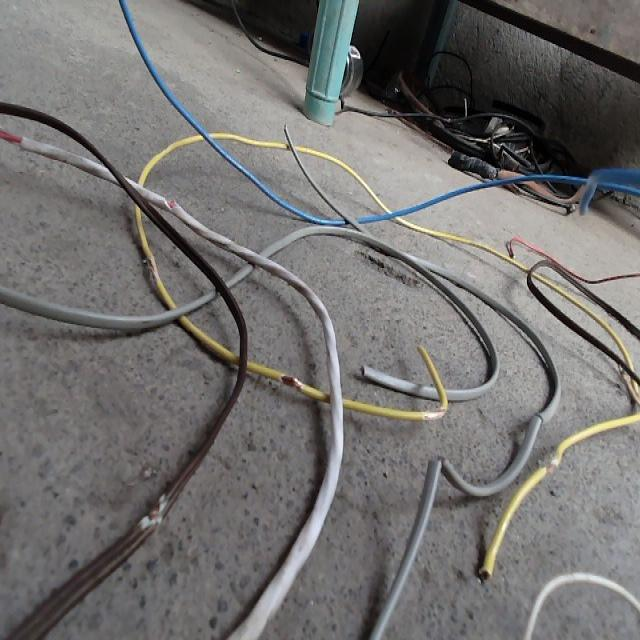-: (140, 494, 166, 526), (278, 372, 303, 393), (144, 252, 159, 285), (0, 126, 24, 146), (422, 406, 448, 422), (162, 195, 176, 212), (545, 459, 556, 473)
